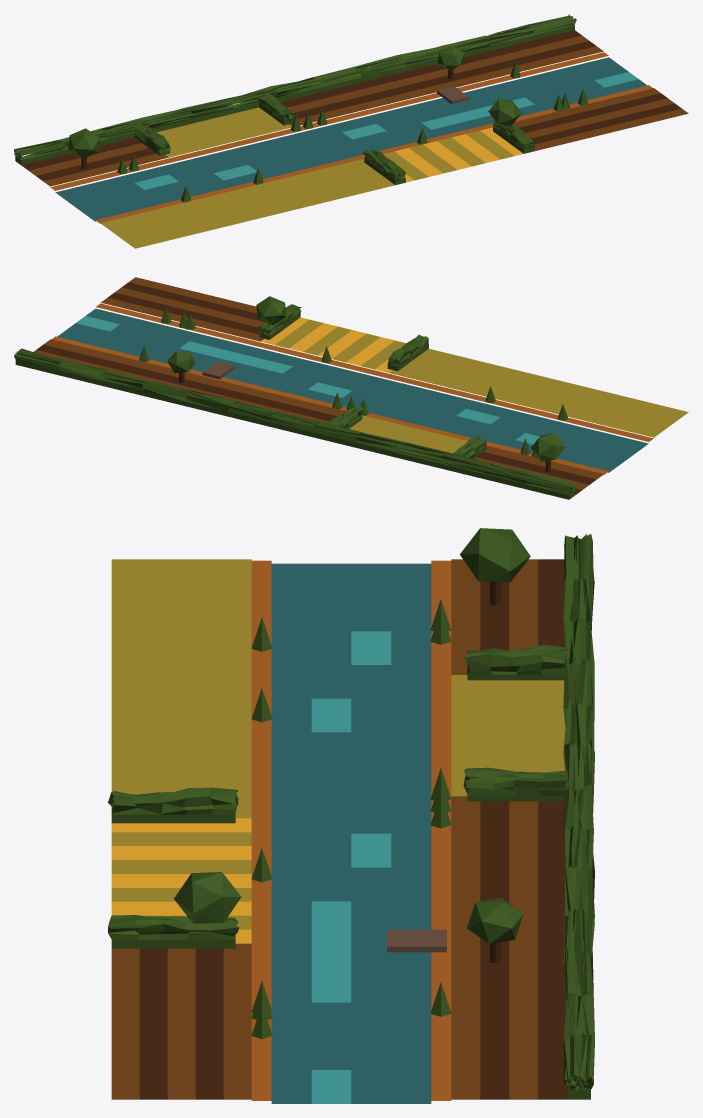
File: riverA.glb
The picture shows the model from 3 angles, top to bottom: view 1: azimuth 30°, elevation 25°; view 2: azimuth 150°, elevation 25°; view 3: azimuth 270°, elevation 25°; orthographic projection. The views are drawn at different scales.
Visible parts, largest first — view 1: P67, H115, P88, P65, P66, P91, P92, P90, P93, P78, P79, P80 (+21 smaller); view 2: H115, P67, P66, P91, P90, P65, P88, P81, P80, P82, P92, P79 (+62 smaller); view 3: P67, H115, P88, P66, P65, P90, P92, P93, P91, P82, P78, P79 (+84 smaller).
Part boxes in pixels (x1,y1,x2,y2): P67: (100, 159, 394, 248); H115: (14, 14, 576, 165); P88: (157, 107, 291, 157); P65: (50, 52, 608, 190); P66: (95, 85, 652, 223); P91: (293, 41, 596, 118); P92: (287, 35, 589, 112); P90: (289, 46, 603, 125); P93: (280, 30, 581, 107); P78: (534, 108, 688, 151); P79: (531, 103, 681, 144); P80: (525, 98, 674, 138); H115: (14, 348, 576, 499); P67: (389, 349, 688, 437); P66: (96, 303, 653, 441); P91: (36, 344, 337, 421); P90: (43, 339, 345, 416); P65: (51, 336, 608, 474); P88: (349, 415, 467, 453); P81: (108, 292, 268, 334); P80: (115, 287, 264, 327); P82: (101, 297, 263, 341); P92: (33, 350, 328, 423); P79: (122, 282, 264, 322); P67: (111, 559, 251, 818); H115: (563, 534, 594, 1099); P88: (451, 675, 565, 796); P66: (251, 560, 271, 1100); P65: (431, 560, 451, 1100); P90: (451, 796, 480, 1099); P92: (509, 801, 538, 1099); P93: (538, 801, 567, 1099); P91: (480, 801, 509, 1099); P82: (223, 943, 251, 1099); P78: (111, 948, 139, 1099); P79: (139, 948, 167, 1099).
Bounding box in the file's own units: 16.1 × 1.05 × 6.1.
